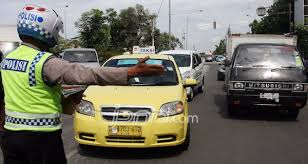plate: (109, 125, 141, 137), (259, 92, 278, 99)
